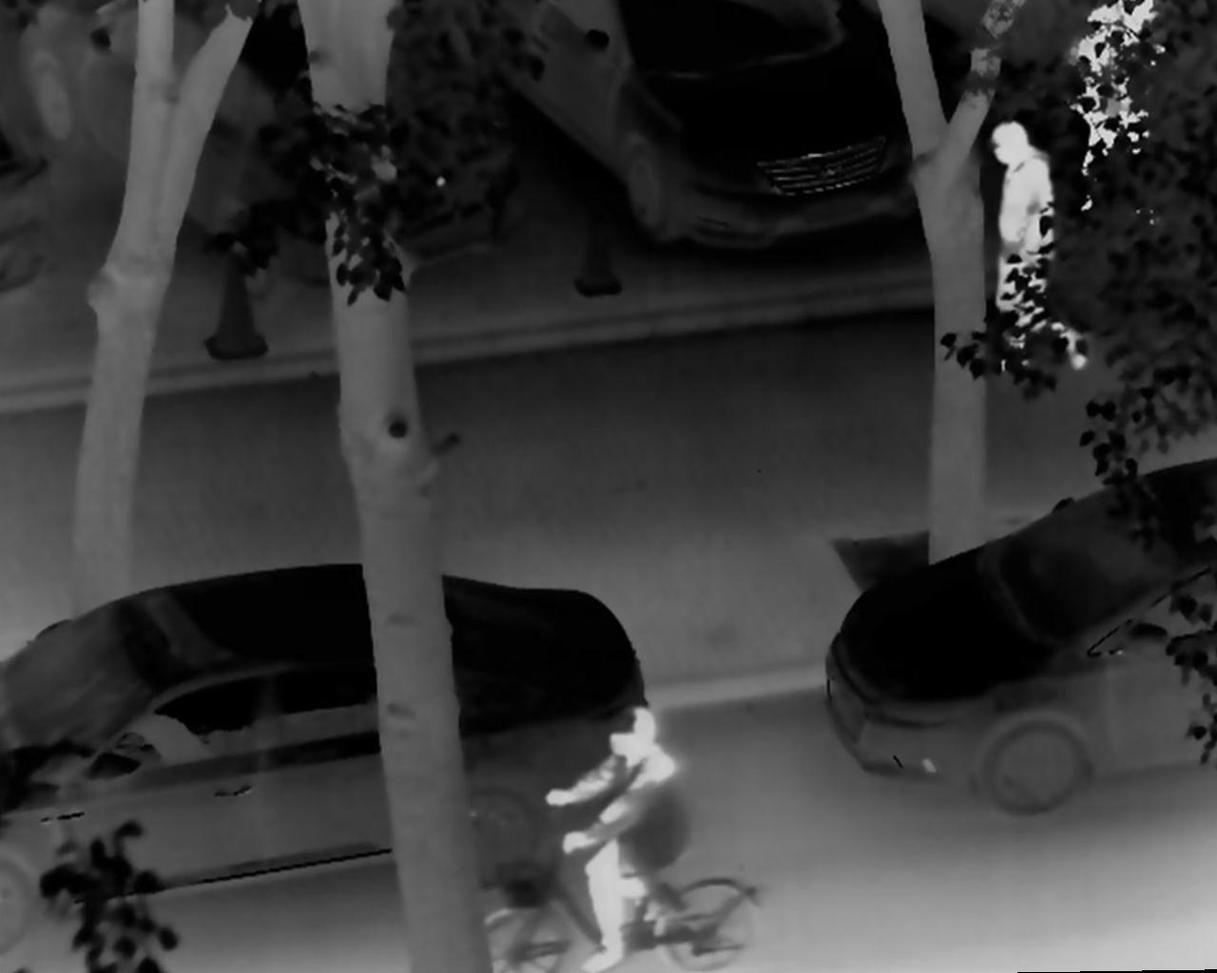person: (542, 703, 705, 973), (971, 113, 1094, 379)
